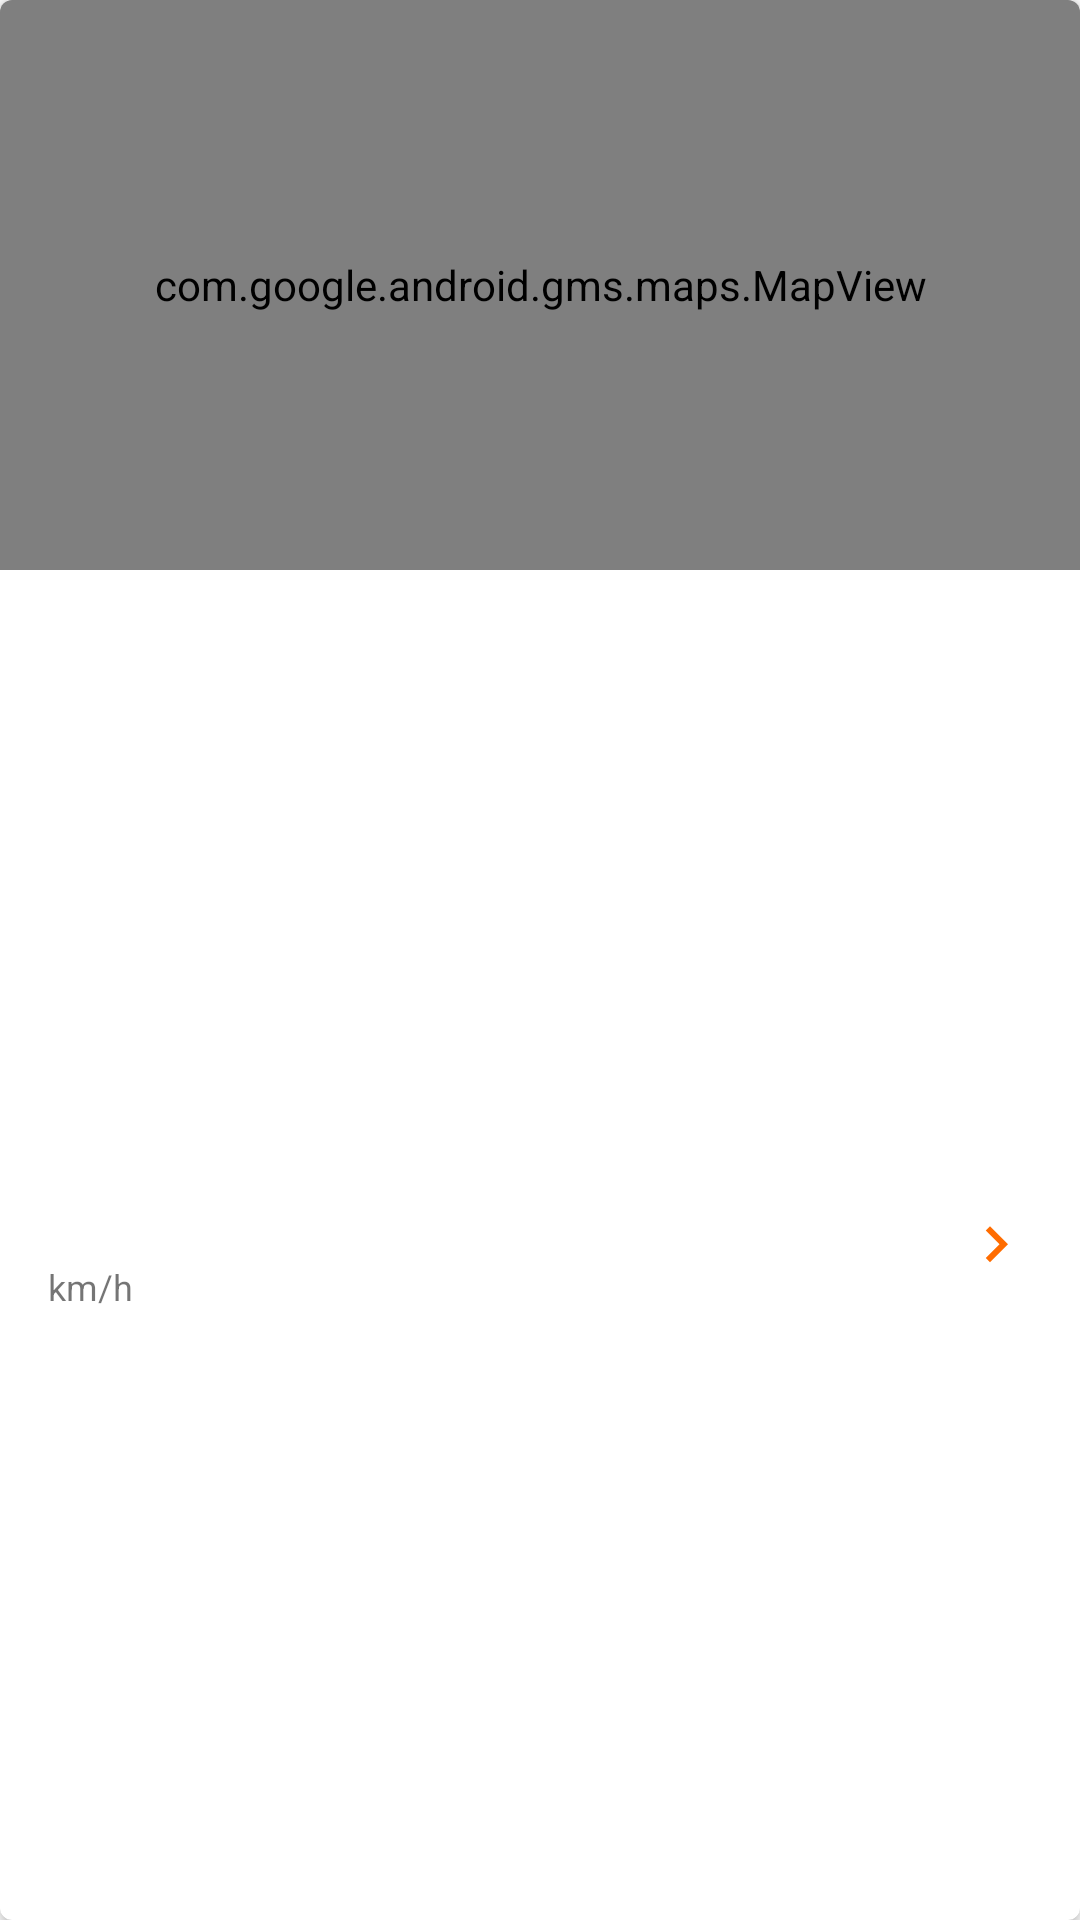

Icons on this 1080w x 1920h Android screen, each with its box as (x1, y1, x2, y2):
arrow right: (986, 1226, 1008, 1262)
